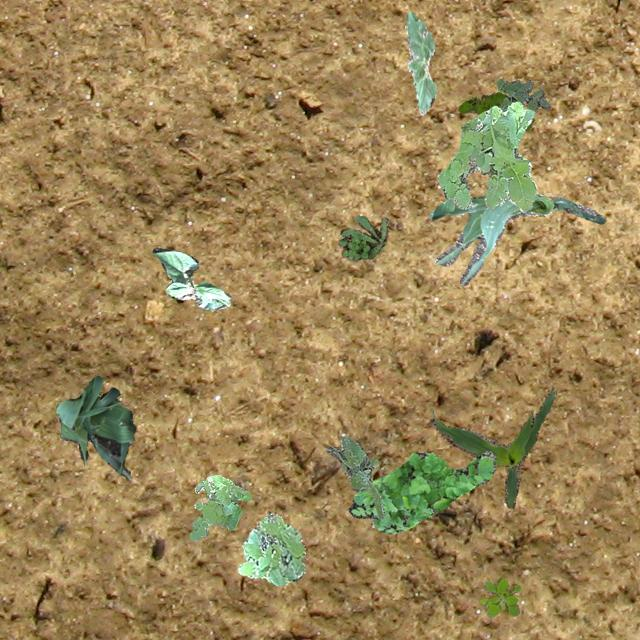crop: (428, 192, 604, 284), (428, 388, 556, 508), (54, 374, 134, 480), (152, 247, 230, 310), (404, 10, 436, 114)
weed: (348, 449, 494, 534), (438, 100, 536, 212), (324, 434, 384, 518), (237, 510, 304, 584), (188, 474, 250, 540), (458, 90, 534, 130), (338, 214, 388, 260), (496, 77, 550, 111), (478, 576, 520, 616)
